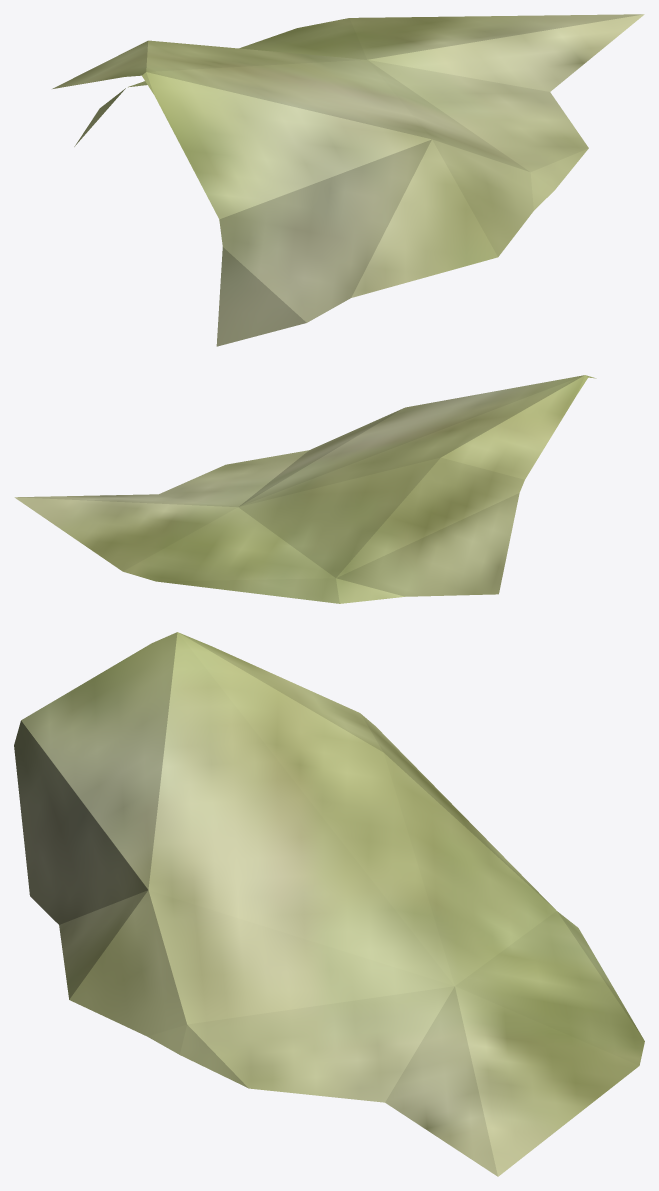
3 views of the same model, one above another, from view 1: azimuth 30°, elevation 25°; view 2: azimuth 150°, elevation 25°; view 3: azimuth 270°, elevation 25° (orthographic). The views are drawn at different scales.
Bounding box in the file's own units: 0.7563 × 0.2389 × 0.6184.
Materials: 1 (1 with a texture image).
